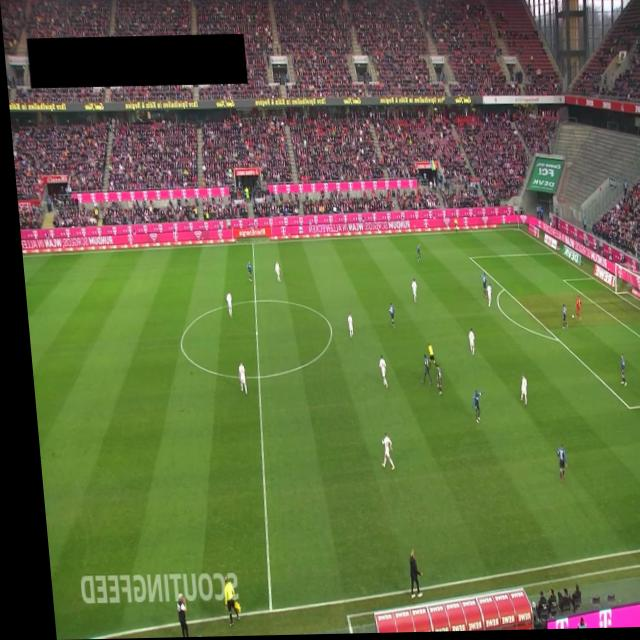goalkeeper: (568, 297, 576, 323)
player: (370, 433, 386, 473), (462, 391, 478, 425), (547, 443, 559, 486), (412, 355, 425, 387), (231, 362, 241, 396), (371, 356, 381, 390), (511, 375, 521, 408), (427, 364, 436, 398), (612, 355, 620, 389), (220, 291, 228, 320), (382, 303, 390, 331), (462, 330, 470, 358), (479, 284, 487, 310), (554, 306, 562, 332), (405, 279, 413, 305), (340, 314, 348, 340), (475, 276, 482, 299), (269, 262, 276, 284), (241, 261, 247, 283), (412, 244, 417, 264)
referee: (211, 577, 230, 627), (421, 344, 429, 371), (449, 217, 454, 235)
